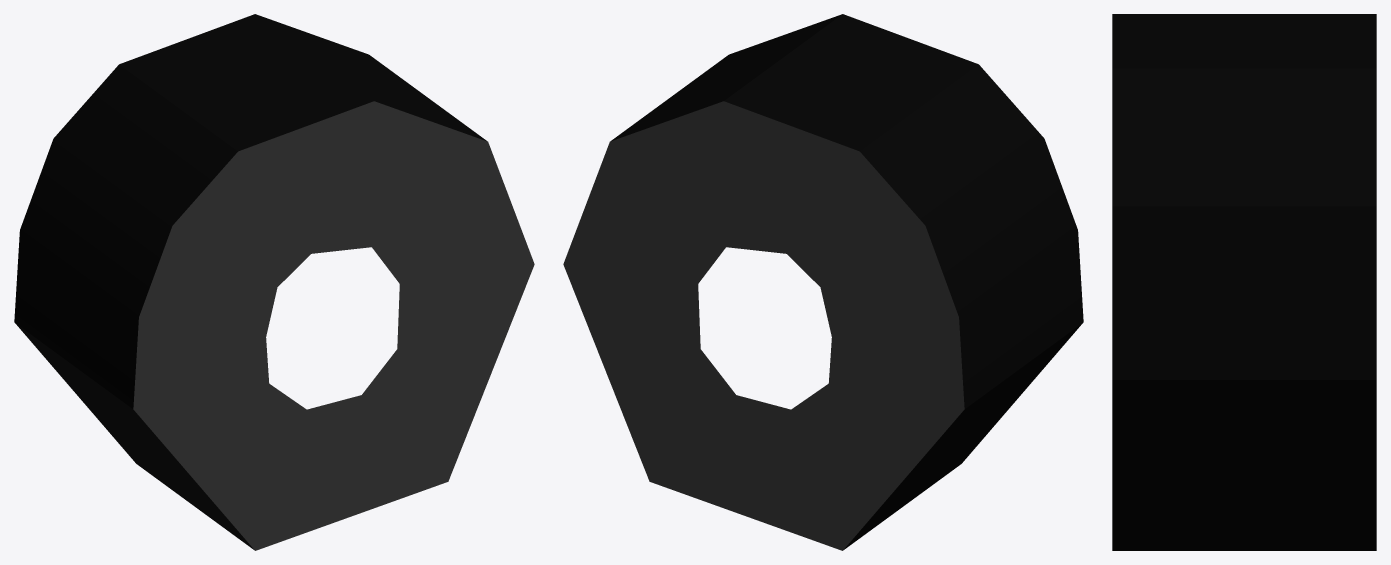
The picture shows the model from 3 angles, left to right: view 1: azimuth 30°, elevation 25°; view 2: azimuth 150°, elevation 25°; view 3: azimuth 270°, elevation 25°; orthographic projection. The views are drawn at different scales.
Visible parts, largest first — view 1: o_Zyzol_Black; view 2: o_Zyzol_Black; view 3: o_Zyzol_Black.
Boxes of the visible parts, <box> form: o_Zyzol_Black: <box>14,14,534,550</box>; o_Zyzol_Black: <box>563,14,1083,550</box>; o_Zyzol_Black: <box>1112,14,1376,550</box>.
Size of what is drawn, in the model's own units: 0.0876 by 0.0877 by 0.045.
Materials: 2 (2 with a texture image).
